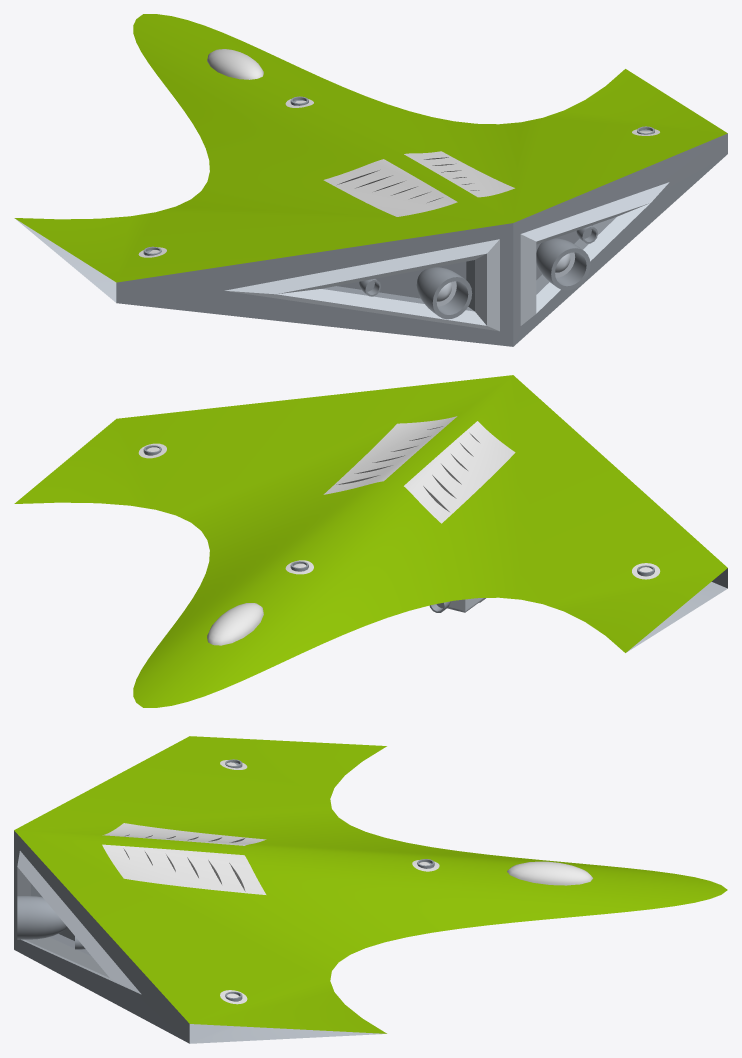
Rendered from lod3_body.dae.
3 renders of one model, top to bottom at view 1: azimuth 30°, elevation 25°; view 2: azimuth 150°, elevation 25°; view 3: azimuth 270°, elevation 25°, orthographic. The views are drawn at different scales.
Parts seen in each view (by area): view 1: lod3_2, lod3_4, lod3_1; view 2: lod3_2, lod3_4, lod3_1; view 3: lod3_2, lod3_4, lod3_1.
Boxes of the visible parts, box(x1,y1,x2,y2) form: lod3_2: box(14, 14, 727, 346); lod3_4: box(207, 49, 263, 79); lod3_1: box(143, 96, 654, 255); lod3_2: box(14, 375, 727, 707); lod3_4: box(207, 603, 263, 645); lod3_1: box(143, 426, 654, 576); lod3_2: box(14, 736, 727, 1043); lod3_4: box(507, 861, 592, 885); lod3_1: box(123, 759, 434, 1001).
Bounding box in the file's own units: 24.8 × 26 × 4.8.
